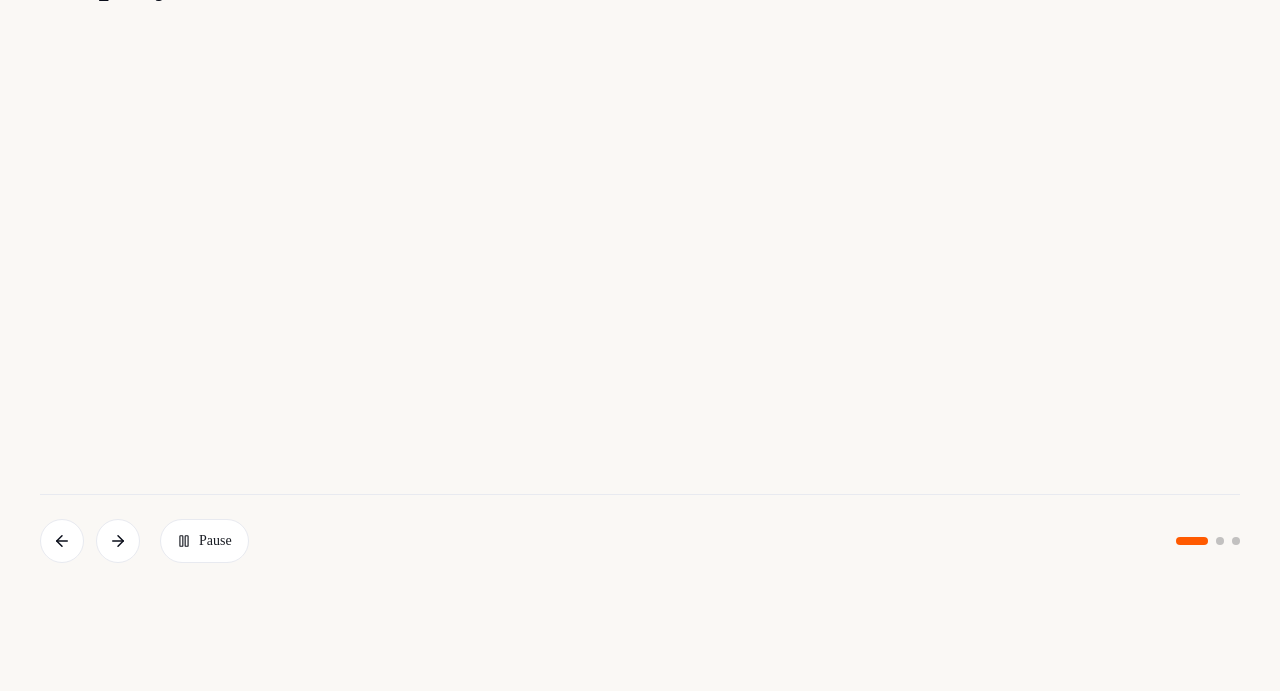
Test: CasesCarousel (homepage §6.5 enrichi) › permet la mise en pause manuelle
(page scrolled)
Click the button with aria-label "Mettre en pause" at (204, 541), box x1=160 y1=519 x2=249 y2=563
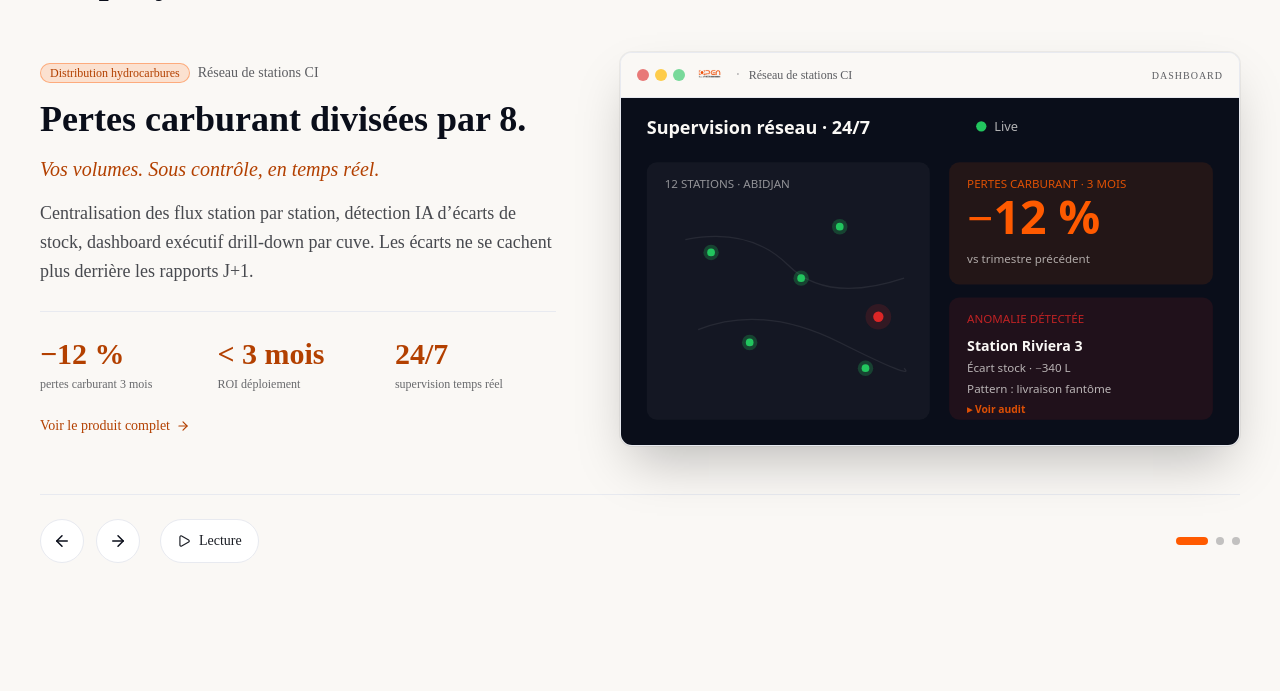
Now the button with aria-label "Reprendre la rotation" is shown, box x1=160 y1=519 x2=259 y2=563
